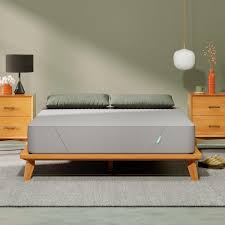bed-matress: (26, 102, 197, 154)
